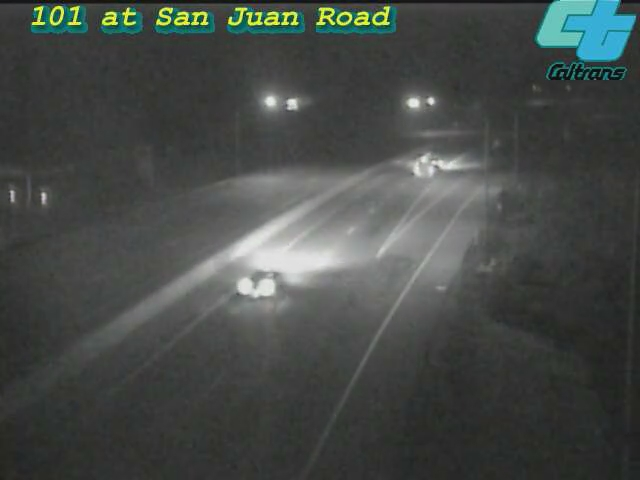vehicle: (387, 126, 467, 206), (228, 240, 308, 320)
